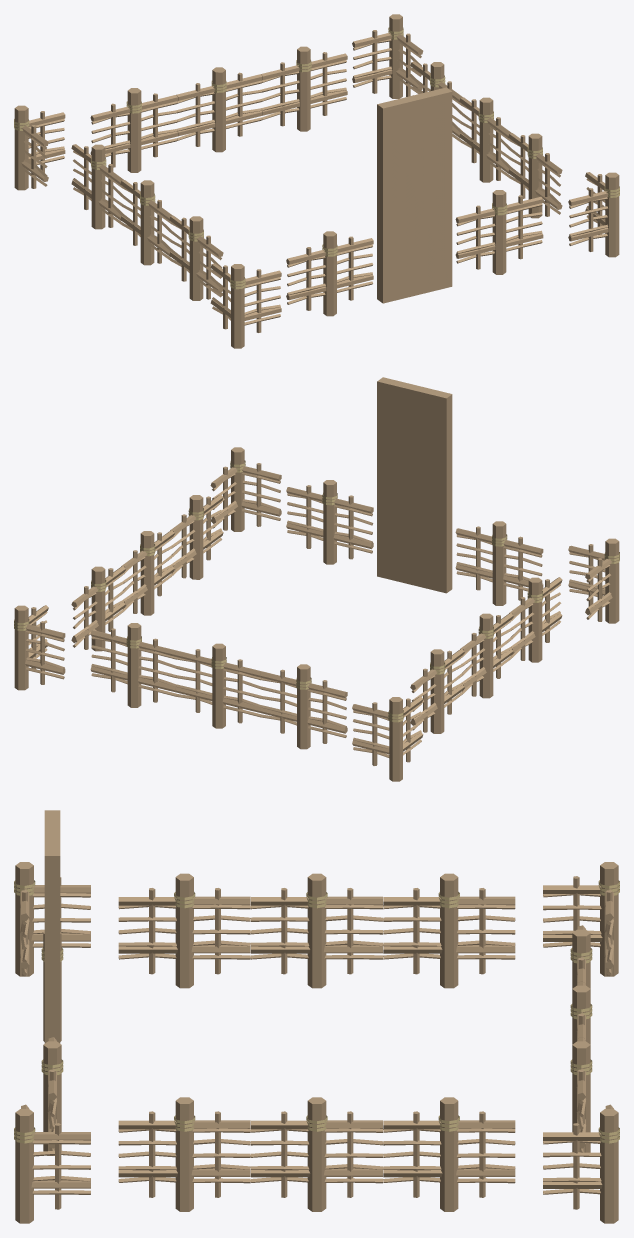
File: building_pen_complete.glb
3 renders of one model, top to bottom at view 1: azimuth 30°, elevation 25°; view 2: azimuth 150°, elevation 25°; view 3: azimuth 270°, elevation 25°, orthographic. The views are drawn at different scales.
Visible parts, largest first — view 1: building_pen_complete; view 2: building_pen_complete; view 3: building_pen_complete.
Boxes of the visible parts, x1,y1,x2,y2 form: building_pen_complete: (14,14,619,348); building_pen_complete: (14,377,619,781); building_pen_complete: (14,810,619,1223).
Bounding box in the file's own units: 4.58 × 2.2 × 4.58.
